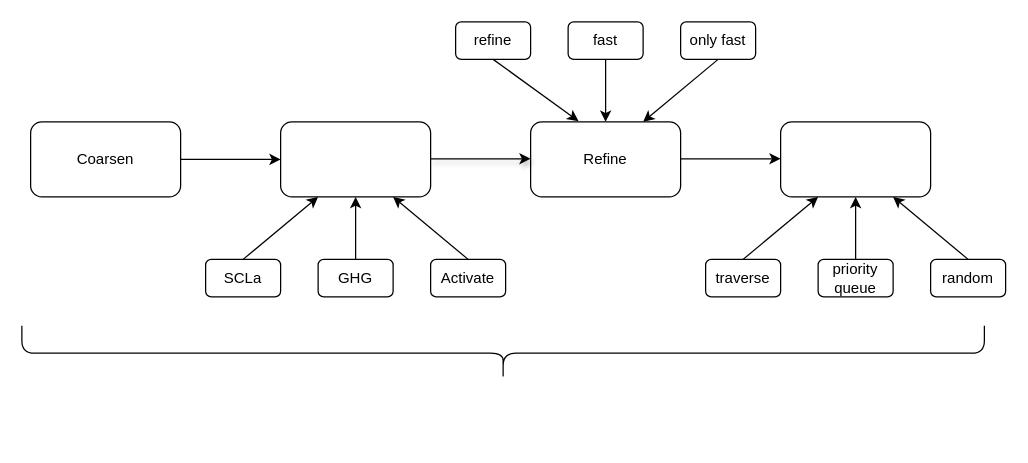
Image size: 1028x463. Some labels were removed from this diagram. The shapes that lost their labels are listed below. From the top down, each one's centre as x and y in pixels, then its label:
At (355,159): "Initial Partition".
At (855,159): "Logic Replication".
At (502,352): "Multithreads <= 4".
